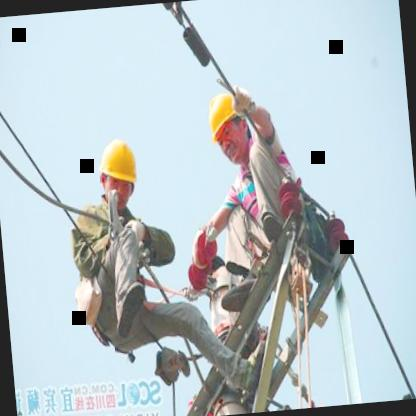helmet: (94, 131, 145, 215), (200, 87, 249, 166)
